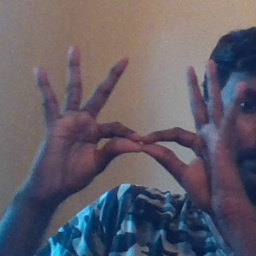B: (87, 101, 213, 198)
